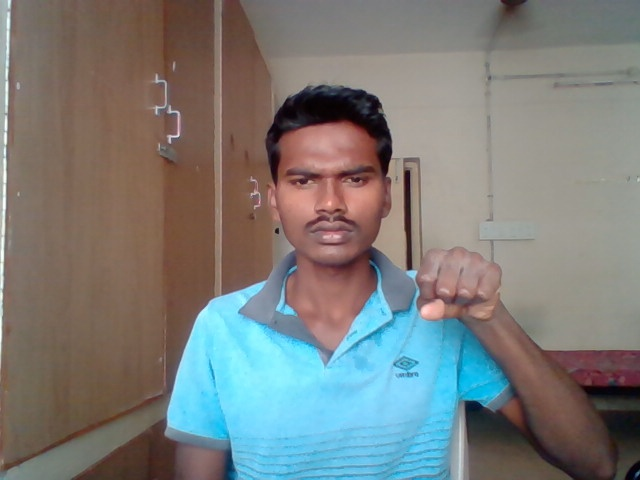Thank You: (412, 246, 503, 321)
